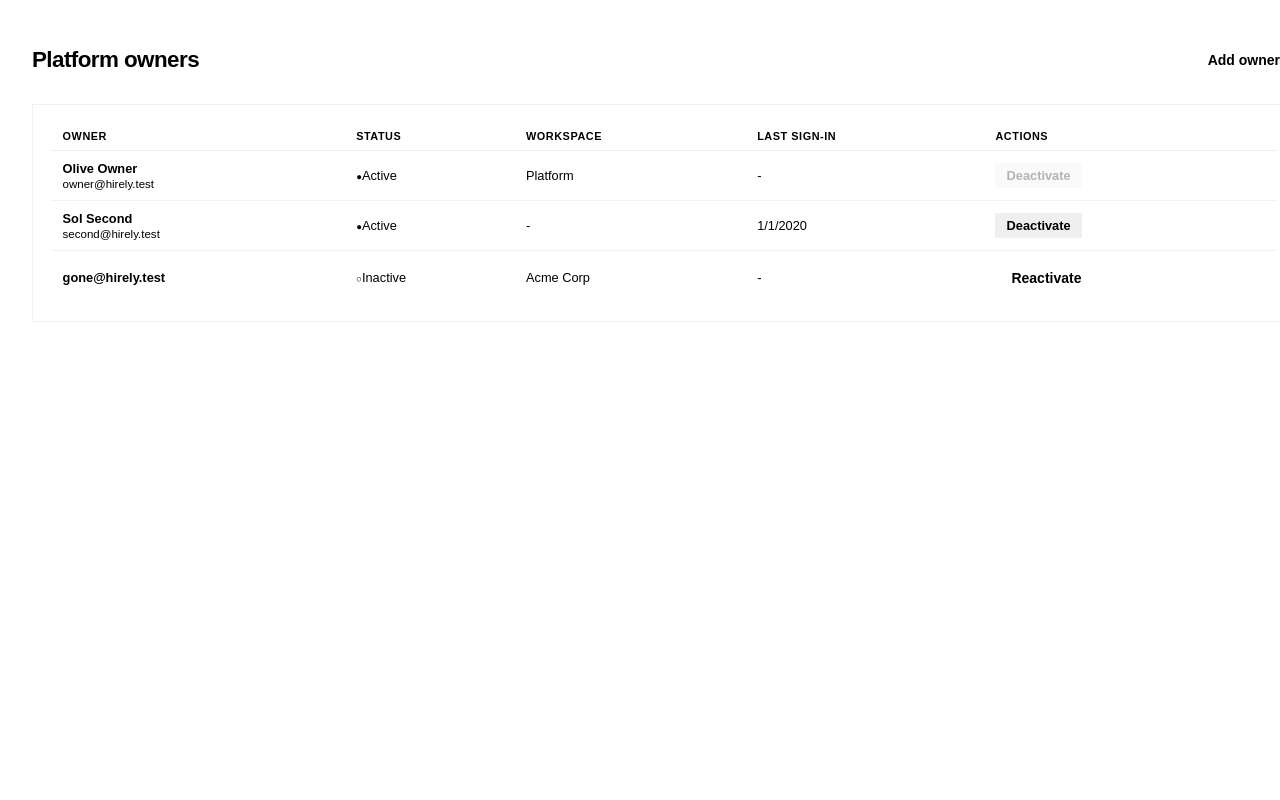
it: PlatformOwnersPage › shows the server's refusal, such as the last owner, and keeps the dialog open
The width and height of the screenshot is (1280, 800).
Expected: the table is shown, [51,122,1277,304]
Click the button "Deactivate" in the row of "Sol Second".
click(1039, 226)  # box [995,213,1082,238]
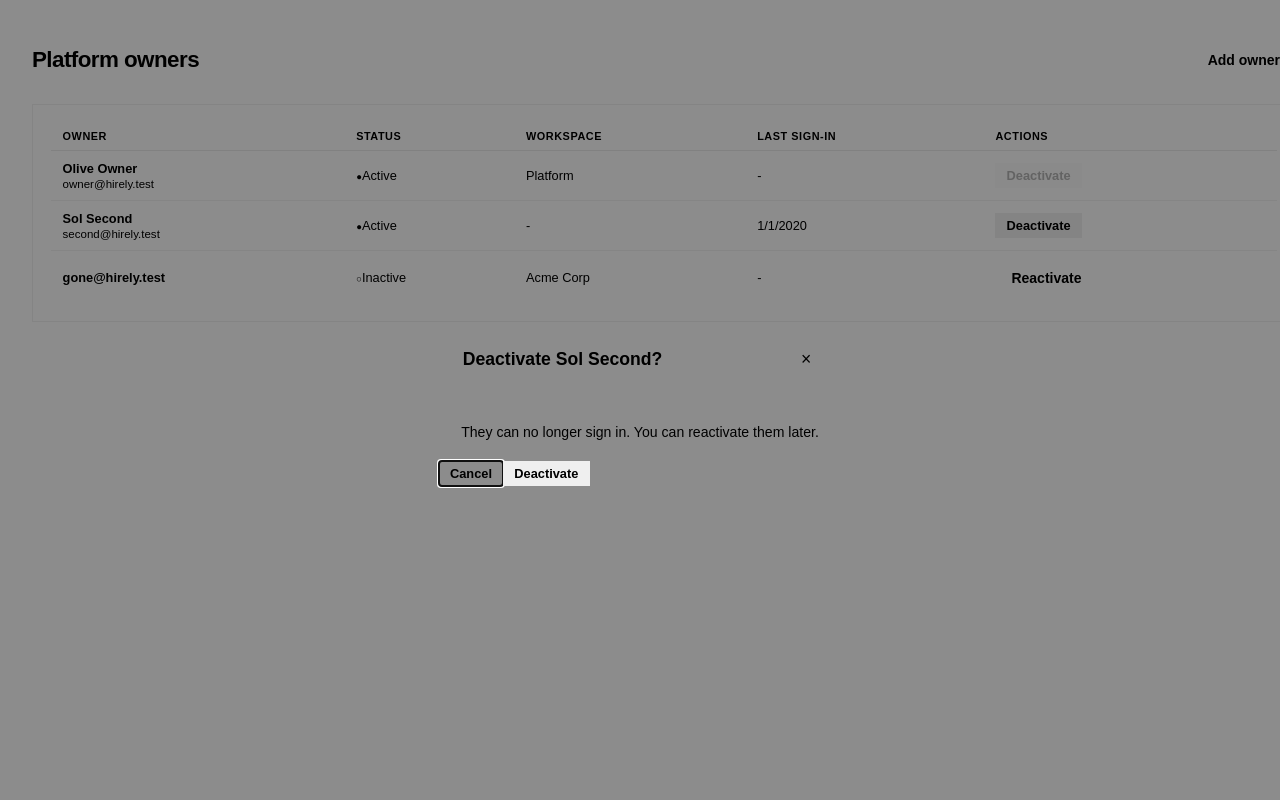
Click the button "Deactivate".
click(546, 473)  # box [503,461,590,486]
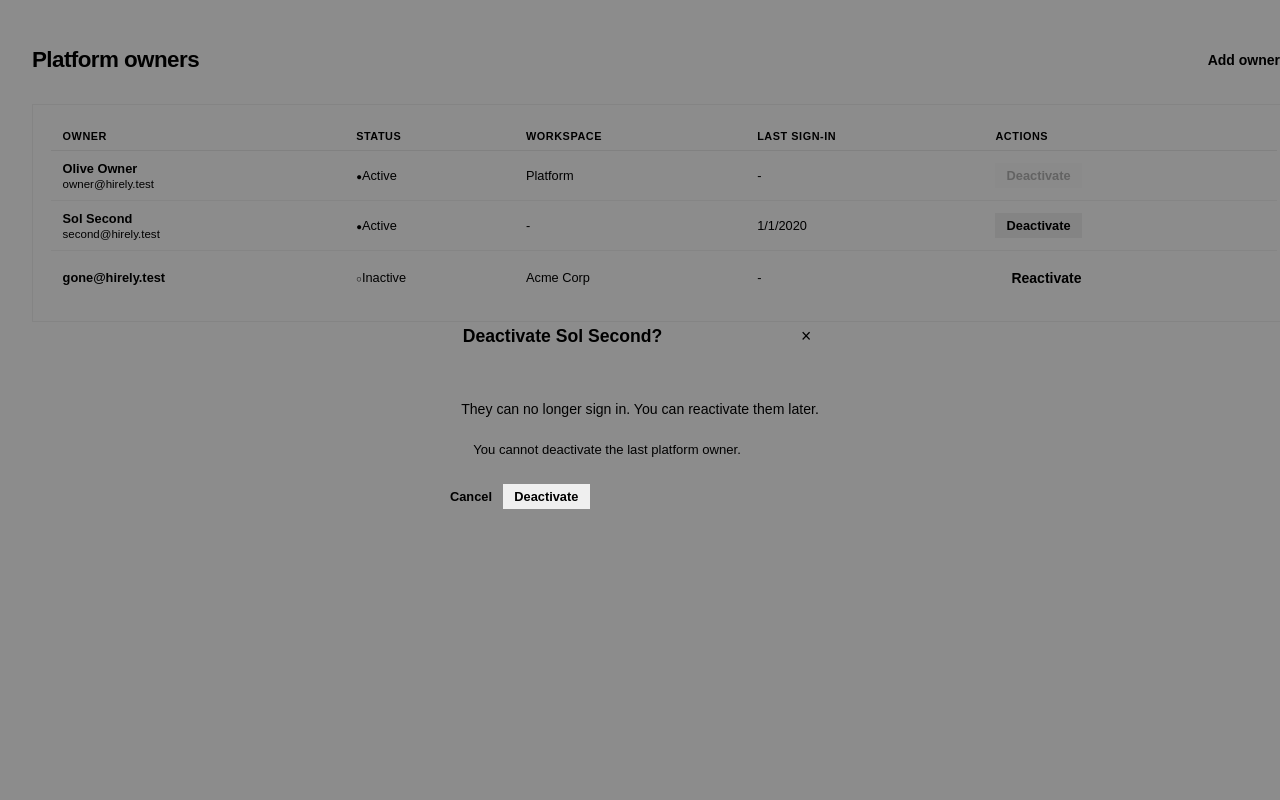
Expected: the dialog is shown, [439,291,841,509]
Expected: the message reads "You cannot deactivate the last platform owner.", [473,442,741,457]
